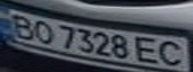2: (90, 29, 112, 57)
3: (72, 26, 96, 54)
7: (54, 22, 78, 51)
8: (112, 32, 133, 61)
B: (3, 11, 39, 39)
C: (154, 38, 190, 68)
E: (133, 35, 163, 64)
O: (27, 18, 57, 45)
